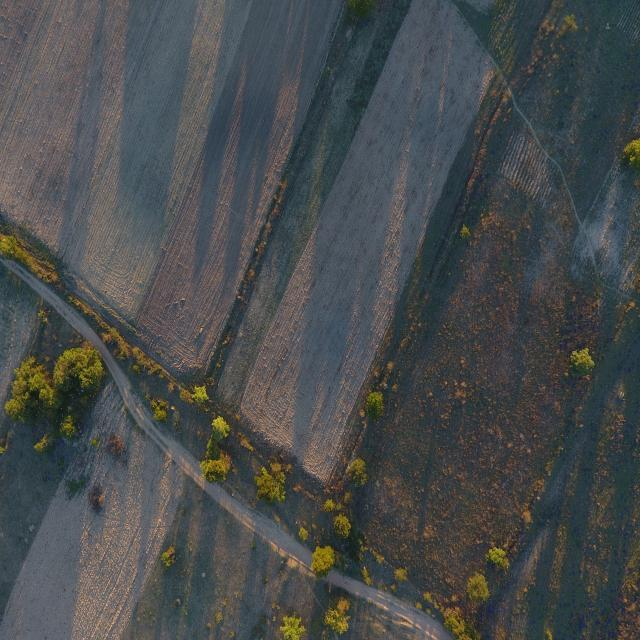boundaries: (198, 34, 357, 383)
